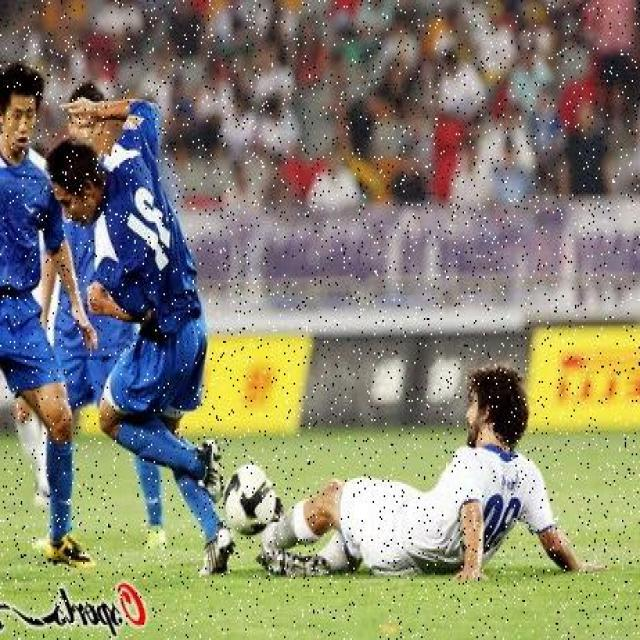fall: (280, 354, 562, 586)
